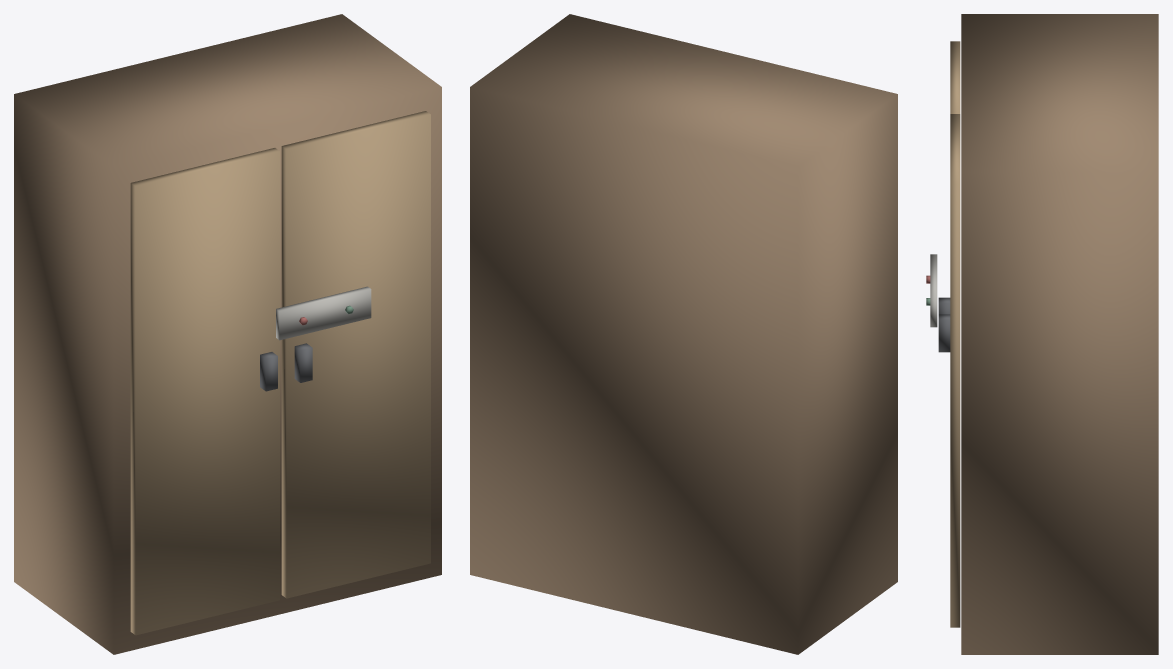
The model's file is cupboard.glb.
3 views of the same model, side by side, from view 1: azimuth 30°, elevation 25°; view 2: azimuth 150°, elevation 25°; view 3: azimuth 270°, elevation 25° (orthographic).
Parts seen in each view (by area): view 1: world; view 2: world; view 3: world.
Boxes of the visible parts, bbox=[...] form: world: bbox=[14, 14, 441, 654]; world: bbox=[470, 14, 897, 654]; world: bbox=[926, 14, 1158, 654].
Bounding box in the file's own units: 0.95 × 1.35 × 0.5885.
